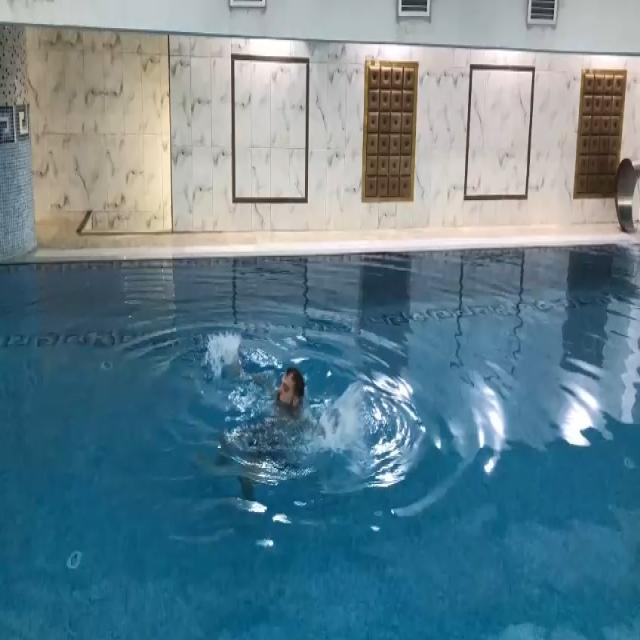Drowning: (223, 356, 324, 456)
